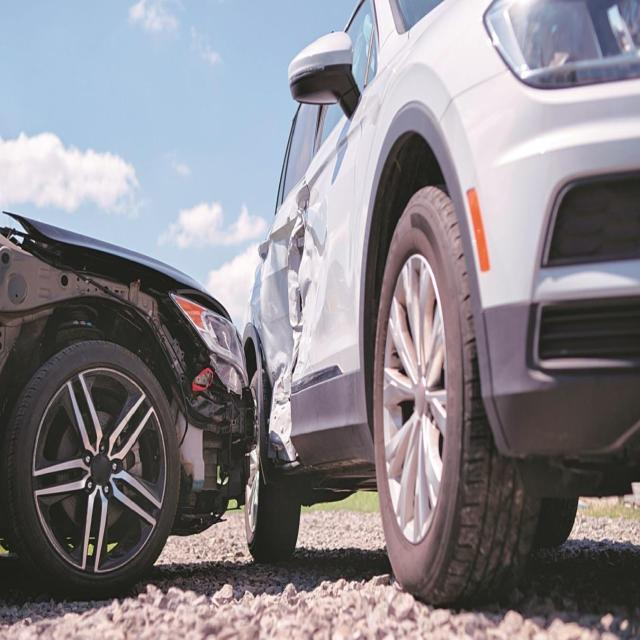accident: (244, 0, 640, 604)
